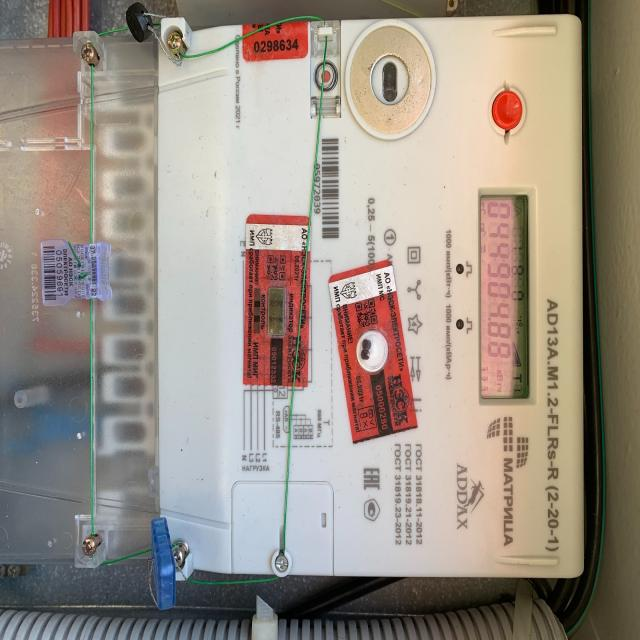Display: (478, 190, 534, 406)
meter_matrica: (19, 0, 596, 606)
meter_number: (308, 130, 345, 242)
seal_elso: (40, 242, 120, 309)
seal_imp: (243, 214, 309, 388)
